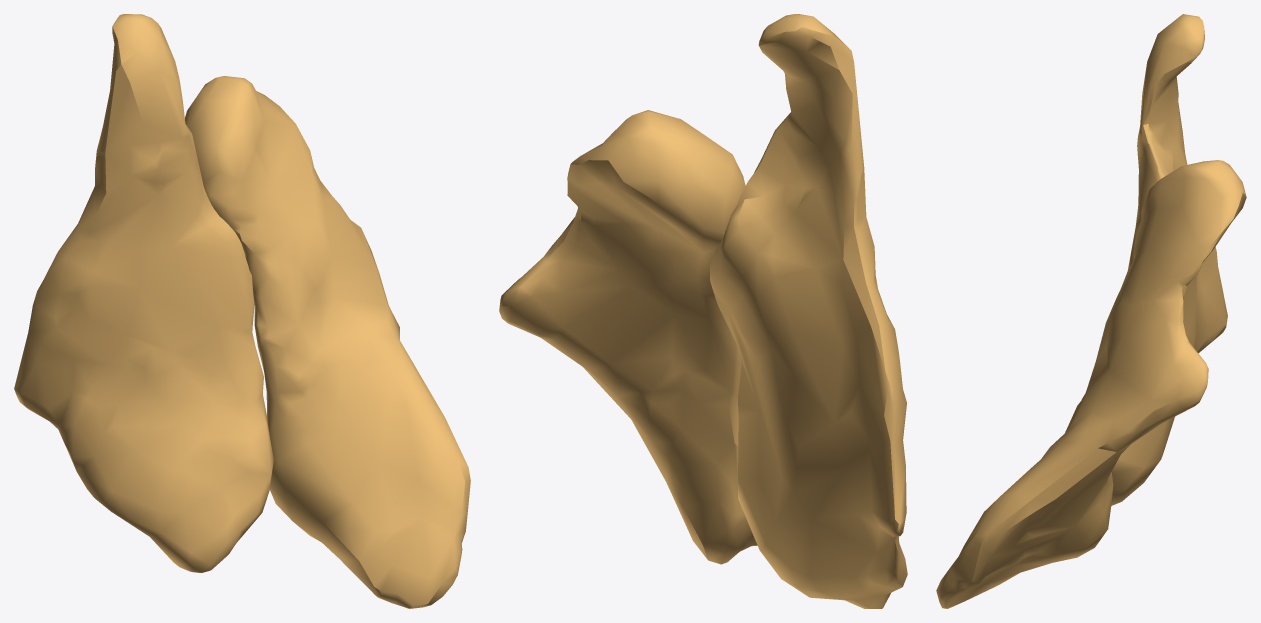
File: timo.glb
3 views of the same model, side by side, from view 1: azimuth 30°, elevation 25°; view 2: azimuth 150°, elevation 25°; view 3: azimuth 270°, elevation 25° (orthographic). The views are drawn at different scales.
Parts seen in each view (by area): view 1: timo; view 2: timo; view 3: timo.
Part boxes in pixels (x1,y1,x2,y2): timo: (14, 14, 470, 608); timo: (499, 14, 907, 608); timo: (936, 14, 1246, 608).
Size of the model in its own units: 0.0466 by 0.0722 by 0.0395.
